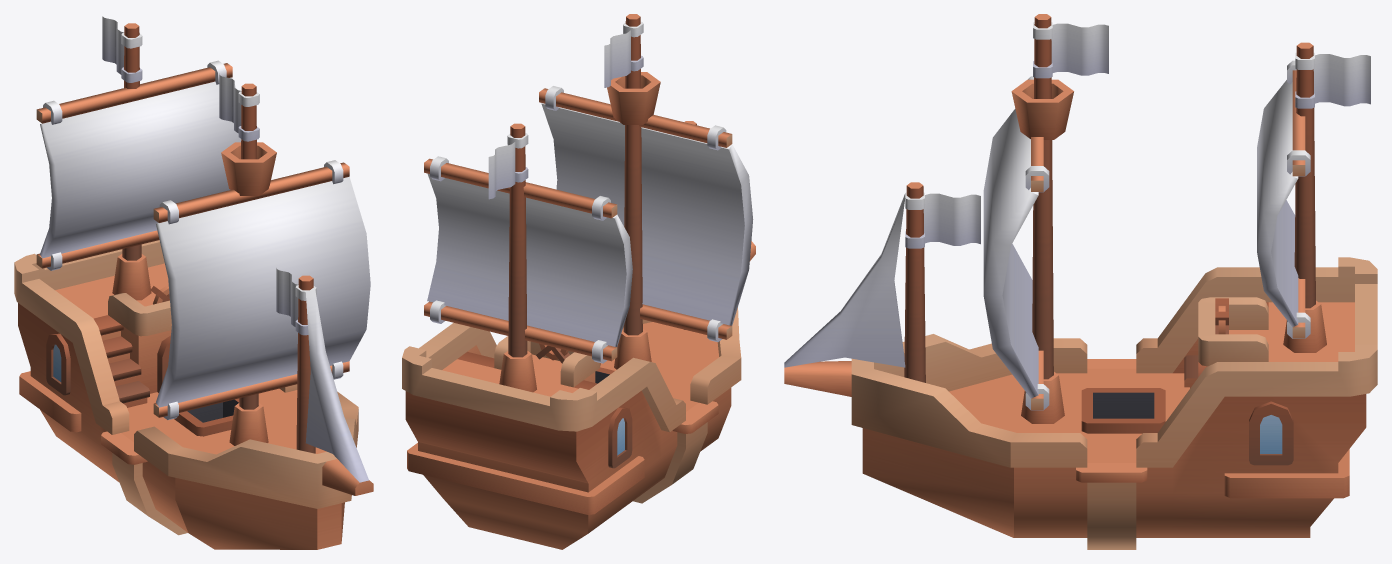
The model's file is ship-medium.gltf.
3 renders of one model, left to right at view 1: azimuth 30°, elevation 25°; view 2: azimuth 150°, elevation 25°; view 3: azimuth 270°, elevation 25°, orthographic. The views are drawn at different scales.
Visible parts, largest first — view 1: ship-medium, sail-a, sail-b, flag-b, flag-c, flag-a; view 2: ship-medium, sail-a, sail-b, flag-c, flag-b; view 3: ship-medium, sail-a, sail-b, flag-b, flag-a, flag-c.
Part boxes in pixels (bbox=[...]): ship-medium: bbox=[14, 23, 373, 549]; sail-a: bbox=[153, 160, 370, 419]; sail-b: bbox=[36, 60, 241, 270]; flag-b: bbox=[219, 73, 259, 141]; flag-c: bbox=[102, 16, 142, 82]; flag-a: bbox=[276, 268, 316, 335]; ship-medium: bbox=[402, 14, 755, 549]; sail-a: bbox=[539, 86, 753, 341]; sail-b: bbox=[424, 156, 632, 363]; flag-c: bbox=[488, 133, 528, 199]; flag-b: bbox=[604, 21, 643, 87]; ship-medium: bbox=[784, 14, 1377, 549]; sail-a: bbox=[983, 76, 1049, 410]; sail-b: bbox=[1257, 60, 1310, 338]; flag-b: bbox=[1033, 22, 1108, 78]; flag-a: bbox=[905, 192, 980, 248]; flag-c: bbox=[1295, 52, 1370, 108].
Bounding box in the file's own units: 4.8 × 9.96 × 10.6.
Materials: 1 (1 with a texture image).
